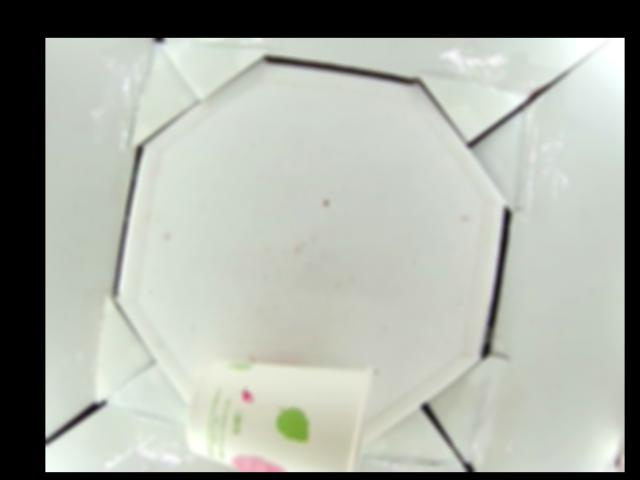Cup: (187, 359, 377, 472)
